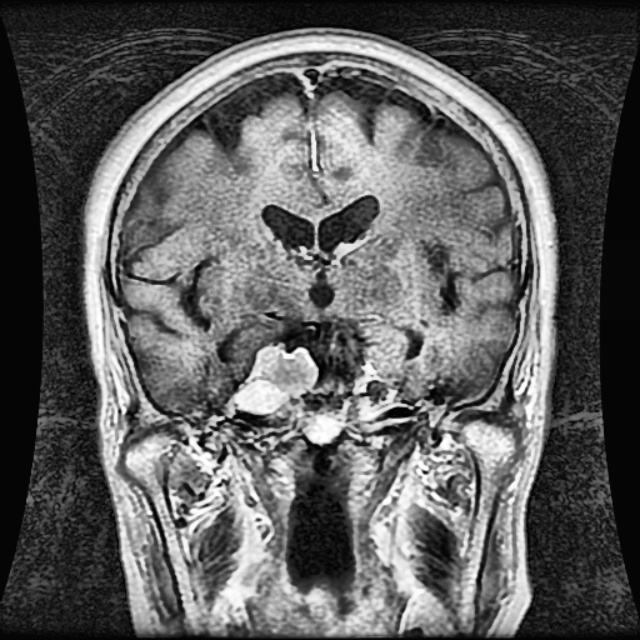Glioma: (233, 342, 319, 414)
